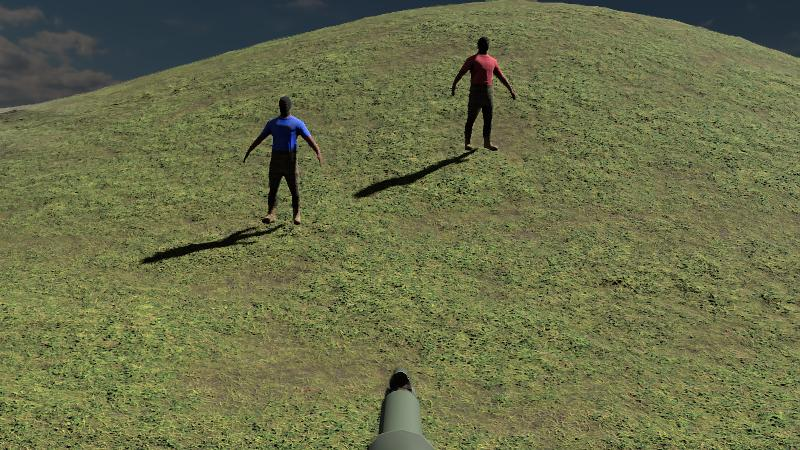Human: (243, 95, 322, 226), (451, 36, 516, 153)
